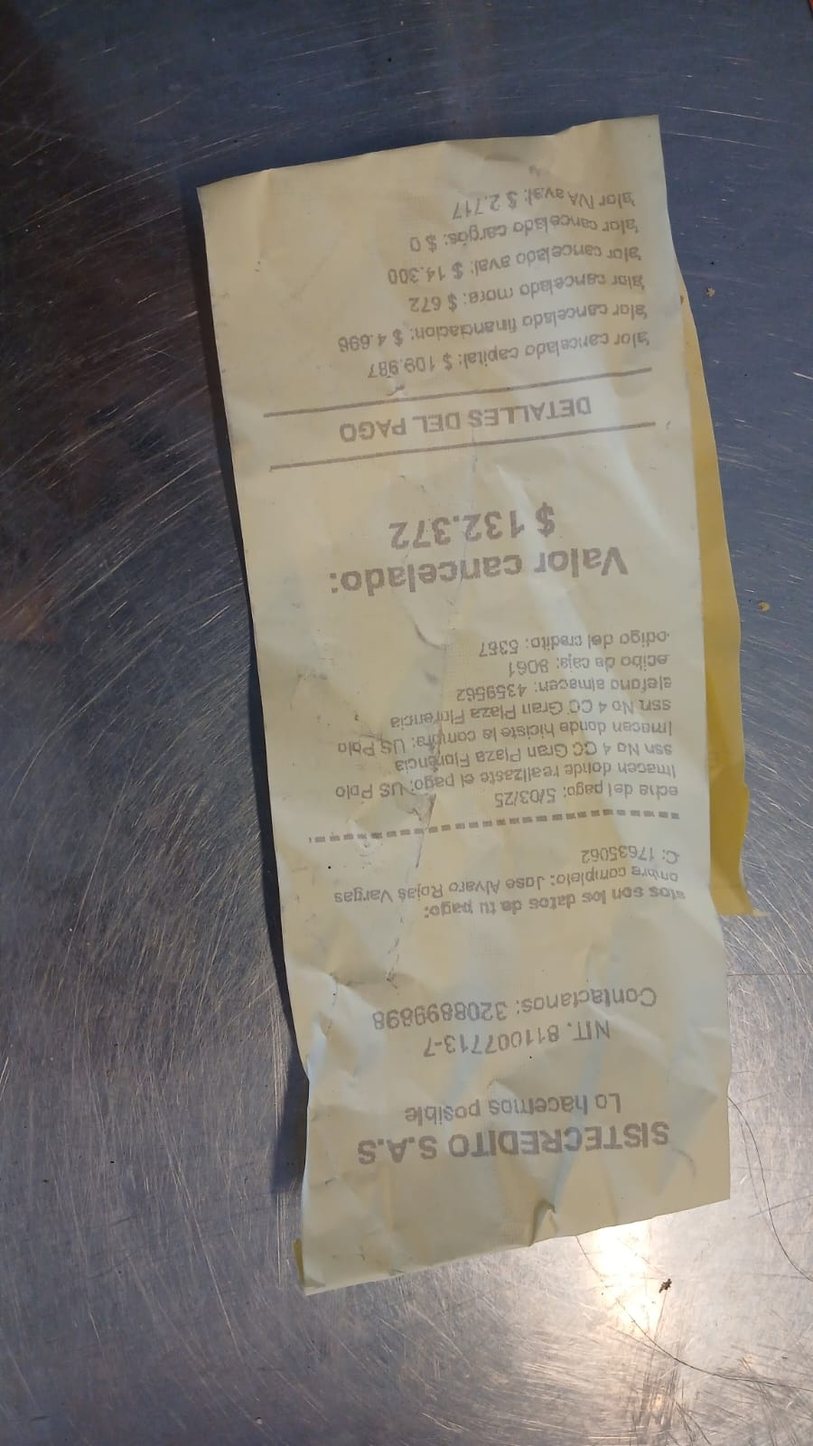Papel: (200, 113, 752, 1297)
